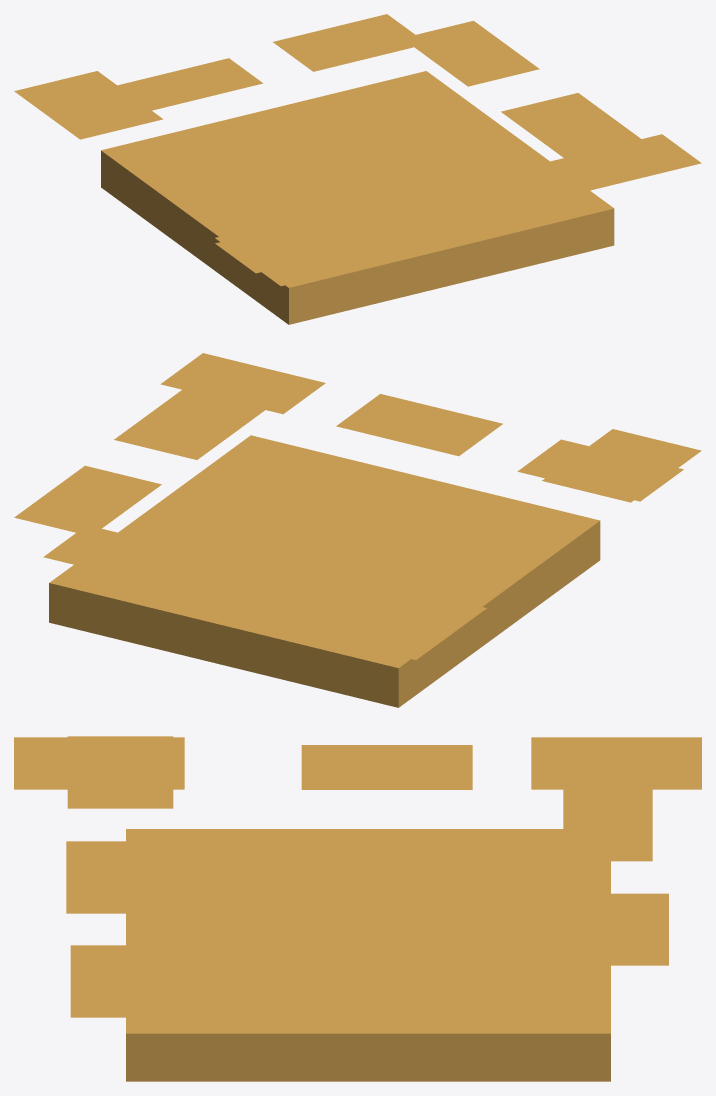
Rendered from sub_sand_dark.obj.
The picture shows the model from 3 angles, top to bottom: view 1: azimuth 30°, elevation 25°; view 2: azimuth 150°, elevation 25°; view 3: azimuth 270°, elevation 25°; orthographic projection. The views are drawn at different scales.
Visible parts, largest first — view 1: sub_sand_dark; view 2: sub_sand_dark; view 3: sub_sand_dark.
Boxes of the visible parts, box(x1,y1,x2,y2) form: sub_sand_dark: box(14, 14, 701, 324); sub_sand_dark: box(14, 353, 701, 707); sub_sand_dark: box(14, 736, 701, 1081).
Size of the model in its own units: 63.19 by 11.19 by 65.25.
